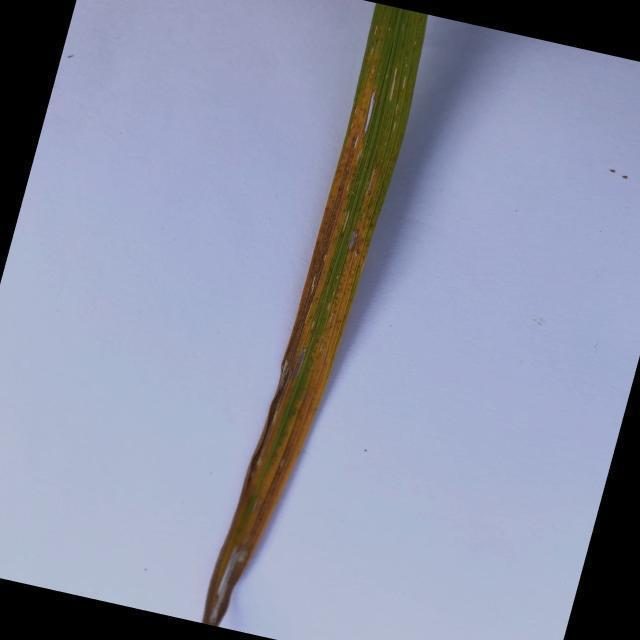Rice Tungro: (201, 0, 434, 625)
